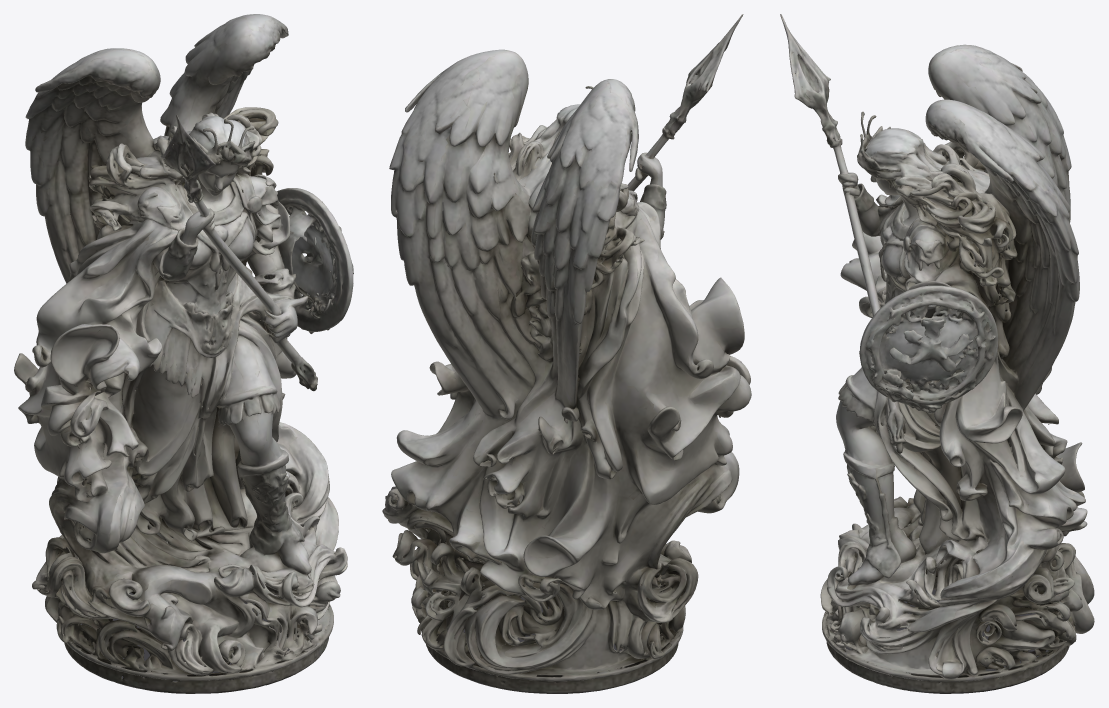
The model's file is status.glb.
The picture shows the model from 3 angles, left to right: view 1: azimuth 30°, elevation 25°; view 2: azimuth 150°, elevation 25°; view 3: azimuth 270°, elevation 25°; orthographic projection. The views are drawn at different scales.
Visible parts, largest first — view 1: world; view 2: world; view 3: world.
Boxes of the visible parts, <box> form: world: <box>14,14,353,693</box>; world: <box>382,14,751,693</box>; world: <box>780,14,1094,693</box>.
Size of the model in its own units: 0.5495 by 1 by 0.4931.
Materials: 1 (1 with a texture image).
